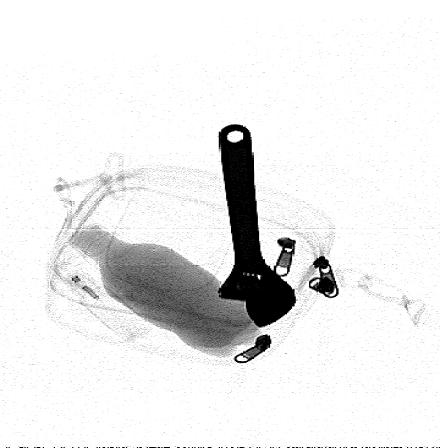Wrench: (216, 124, 297, 327)
